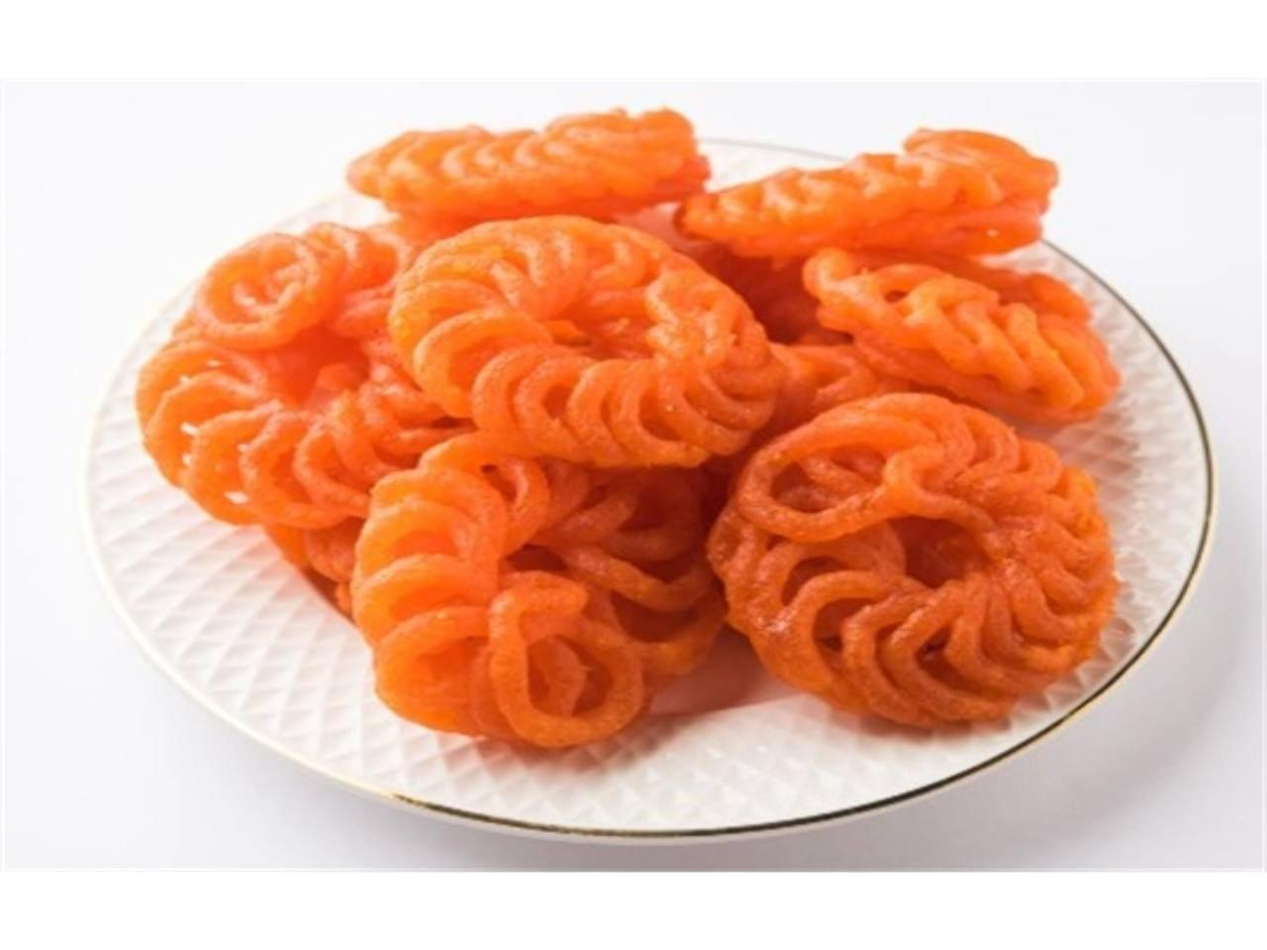jalebi: (153, 132, 1121, 734)
